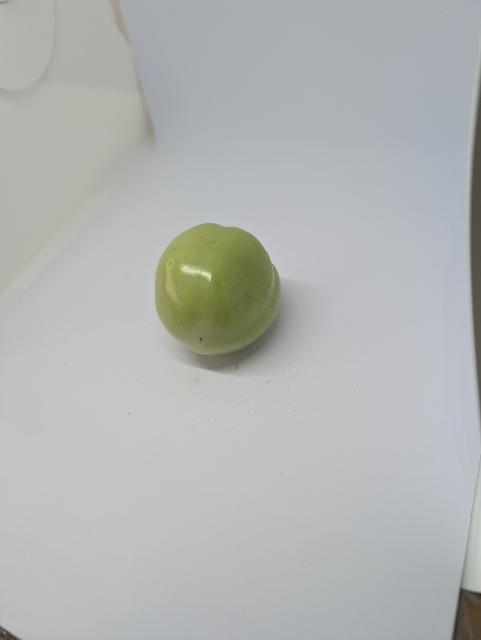green: (148, 214, 288, 365)
